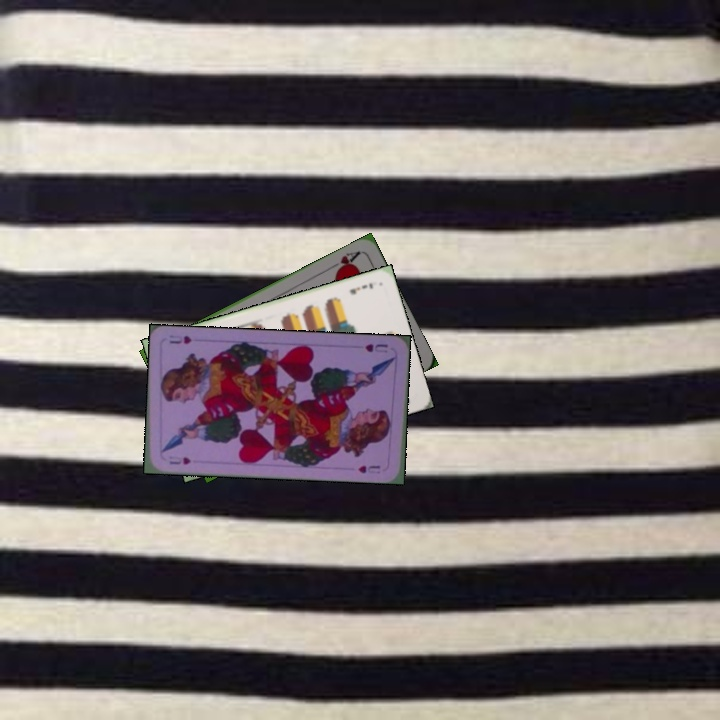E7: (346, 279, 376, 297)
HA: (325, 247, 363, 276)
HU: (361, 340, 390, 355), (166, 453, 193, 467)
